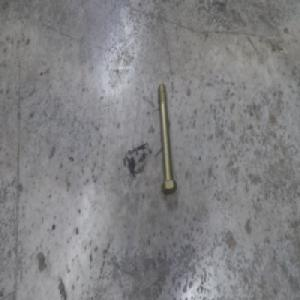Bolt: (156, 82, 177, 195)
